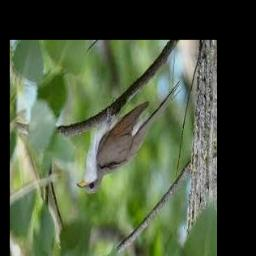Cuckoo: (76, 81, 182, 194)
